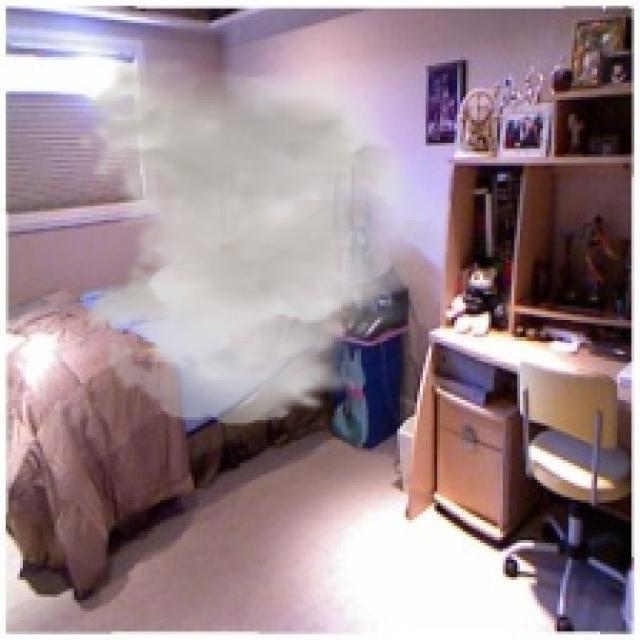Smoke: (74, 57, 460, 426)
